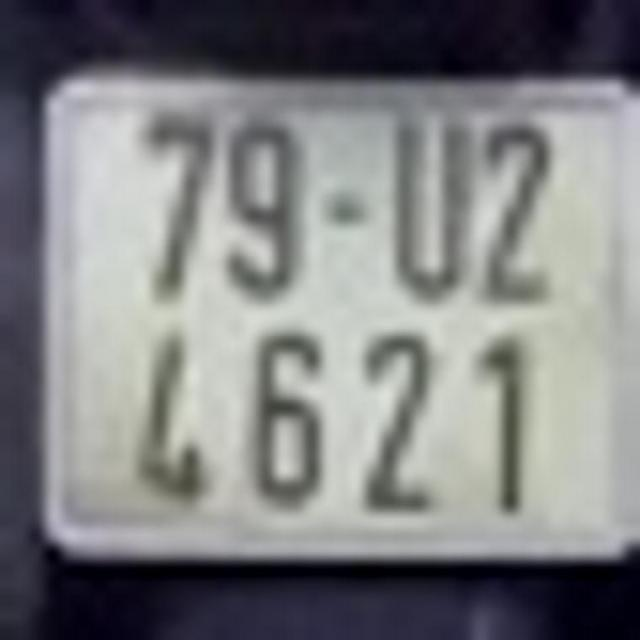1: (462, 322, 548, 517)
2: (352, 320, 442, 520), (480, 117, 558, 306)
4: (128, 322, 216, 511)
6: (247, 320, 328, 515)
7: (132, 101, 216, 304)
9: (223, 103, 308, 308)
U: (387, 108, 474, 303)
